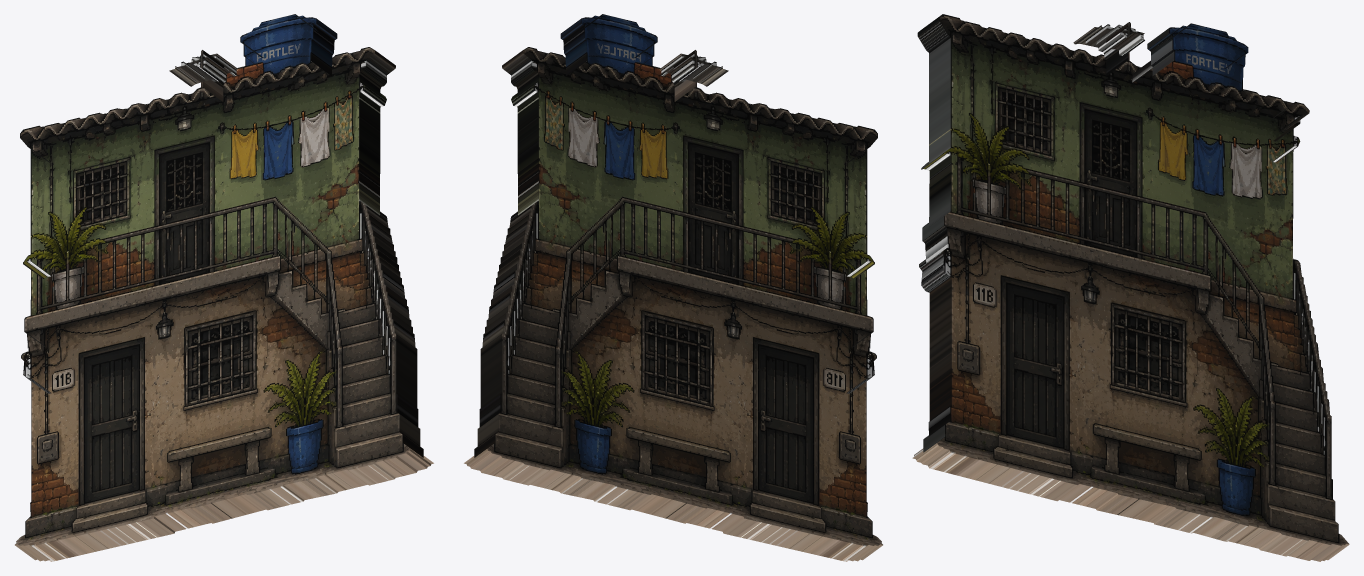
File: house_04_front.glb
3 views of the same model, side by side, from view 1: azimuth 30°, elevation 25°; view 2: azimuth 150°, elevation 25°; view 3: azimuth 330°, elevation 25° (orthographic). The views are drawn at different scales.
Parts seen in each view (by area): view 1: world; view 2: world; view 3: world.
Part boxes in pixels (left/top/right/bottom): world: left=15, top=14, right=433, bottom=561; world: left=464, top=14, right=882, bottom=561; world: left=912, top=14, right=1349, bottom=561.
Size of the model in its own units: 7.39 by 8.31 by 0.6656.
1 material, 1 textured.
